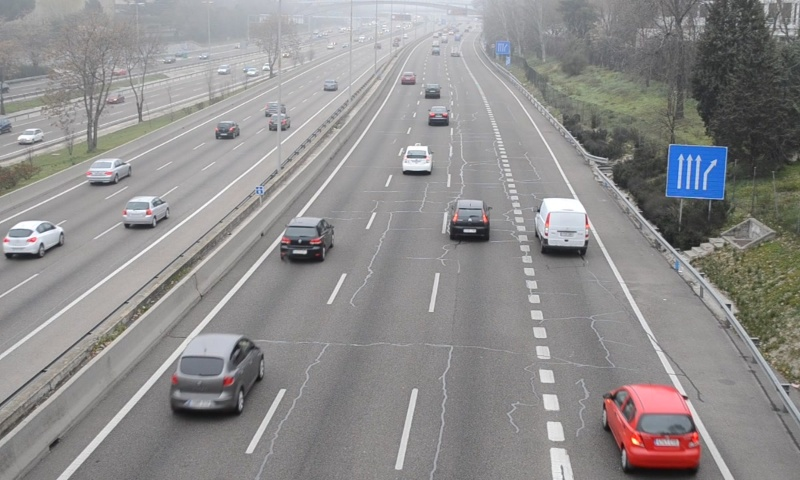car: (602, 385, 700, 469), (168, 334, 264, 418), (280, 216, 334, 261), (449, 198, 490, 237), (401, 144, 433, 172), (427, 105, 451, 128), (423, 82, 441, 98), (400, 70, 416, 84)
van: (537, 197, 589, 249)
